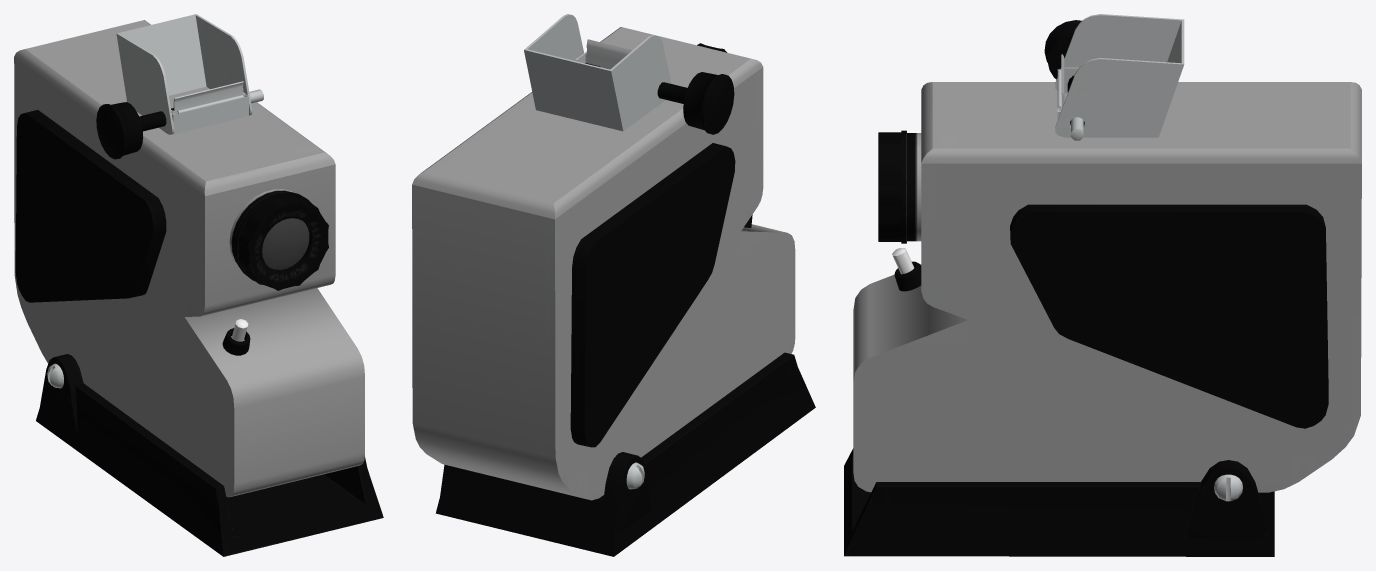
Rendered from filmstrip_projector.glb.
3 renders of one model, left to right at view 1: azimuth 30°, elevation 25°; view 2: azimuth 150°, elevation 25°; view 3: azimuth 270°, elevation 25°, orthographic. The views are drawn at different scales.
Visible parts, largest first — view 1: filmoscope_low_filmoscope_low_0; view 2: filmoscope_low_filmoscope_low_0; view 3: filmoscope_low_filmoscope_low_0.
Boxes of the visible parts, bbox=[...] form: filmoscope_low_filmoscope_low_0: bbox=[14, 14, 383, 556]; filmoscope_low_filmoscope_low_0: bbox=[412, 14, 815, 556]; filmoscope_low_filmoscope_low_0: bbox=[844, 14, 1361, 556].
Bounding box in the file's own units: 0.1773 × 0.3784 × 0.3744.
1 material, 1 textured.
